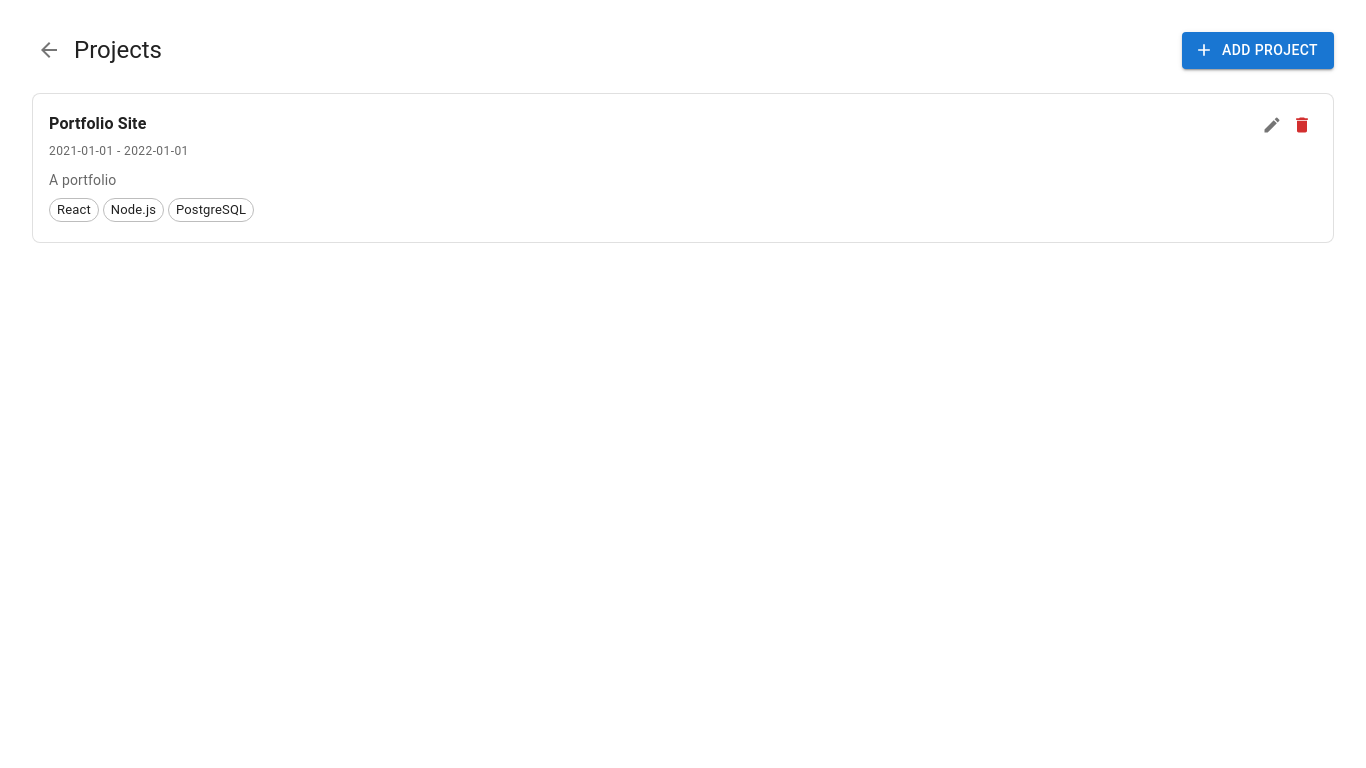
Test case: ProjectsPage › deletes a project after confirming
What coordinates should you click on to do the following:
click the 4th button
I would click on:
 (1302, 124)
Its box is [1287,110,1317,140].
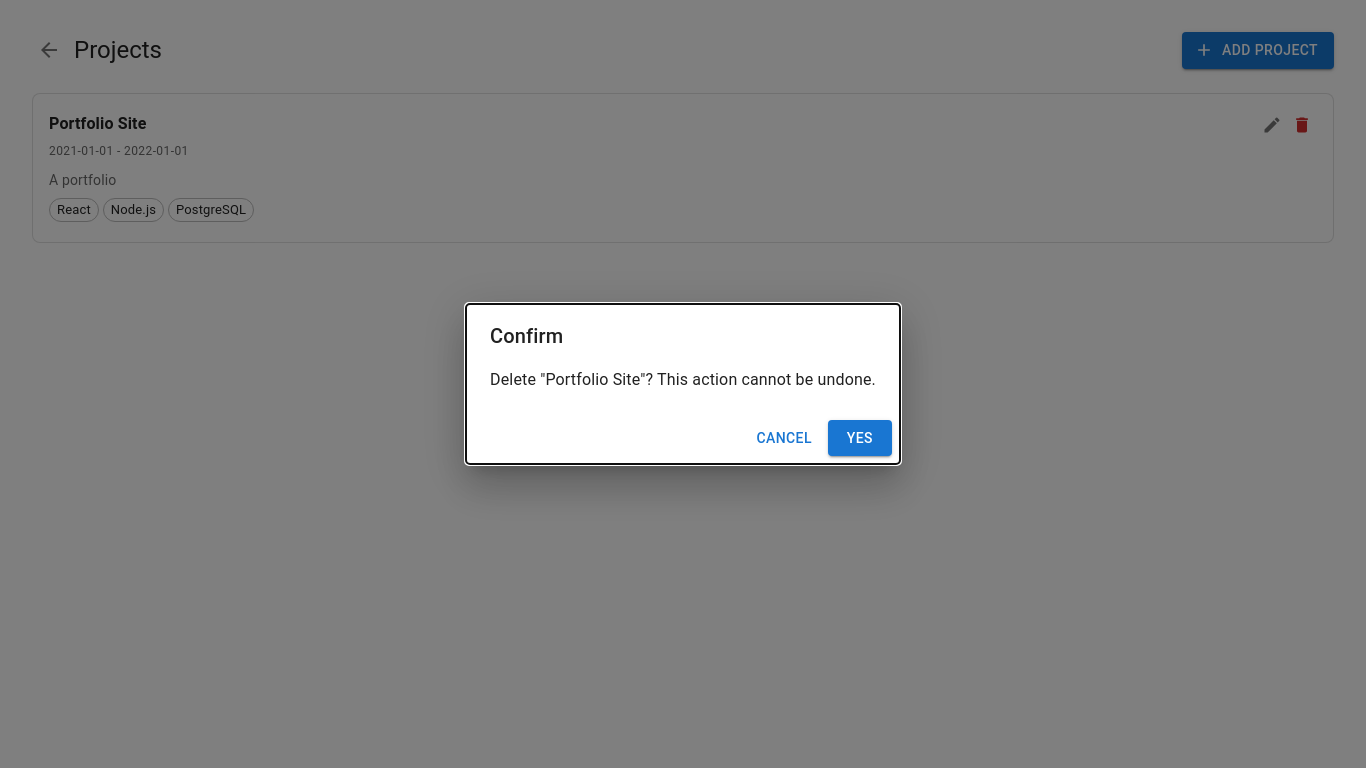
Expected: the text "Delete \"Portfolio Site\"? This action cannot be undone." is shown, [490,370,876,389]
What coordinates should you click on to do the following:
click the button "Yes"
I would click on:
 (860, 438)
Its box is [828,420,892,456].
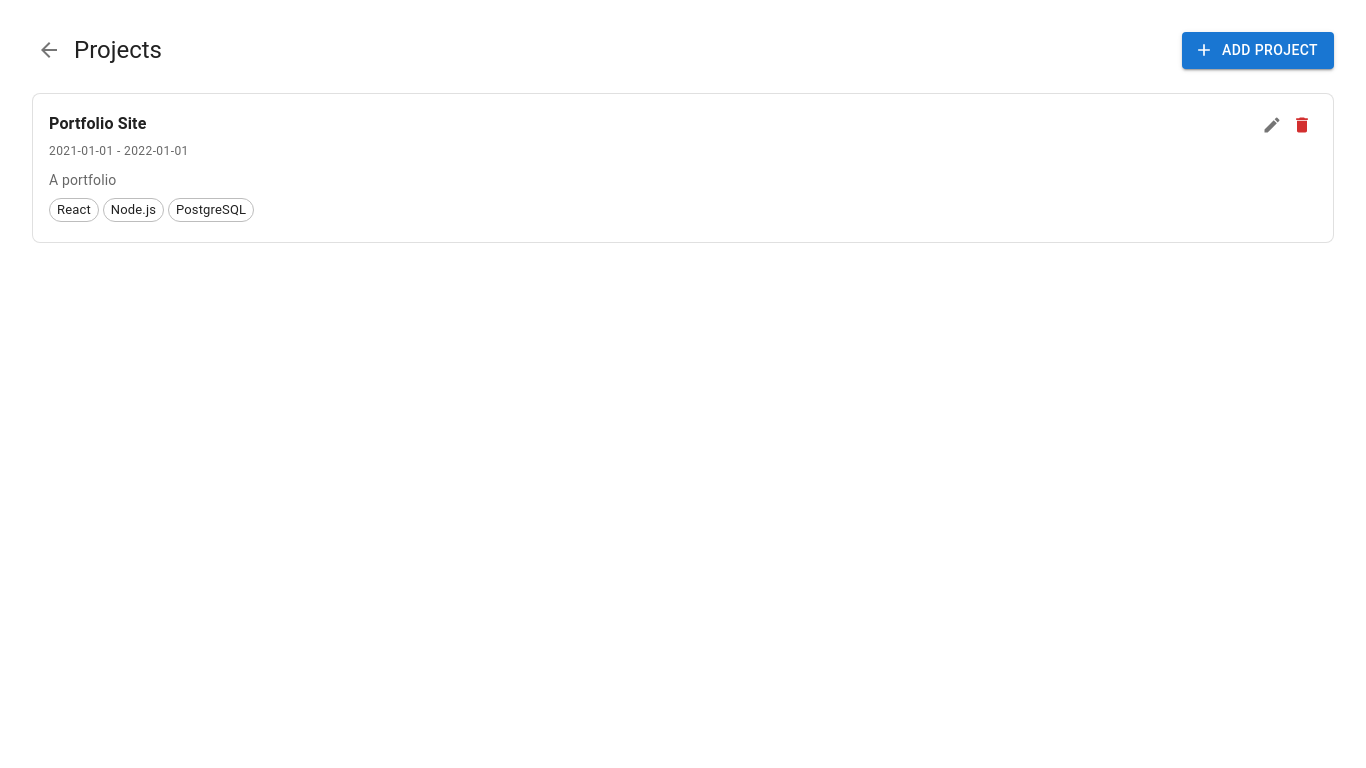
Expected: the text "Delete \"Portfolio Site\"? This action cannot be undone." is gone
